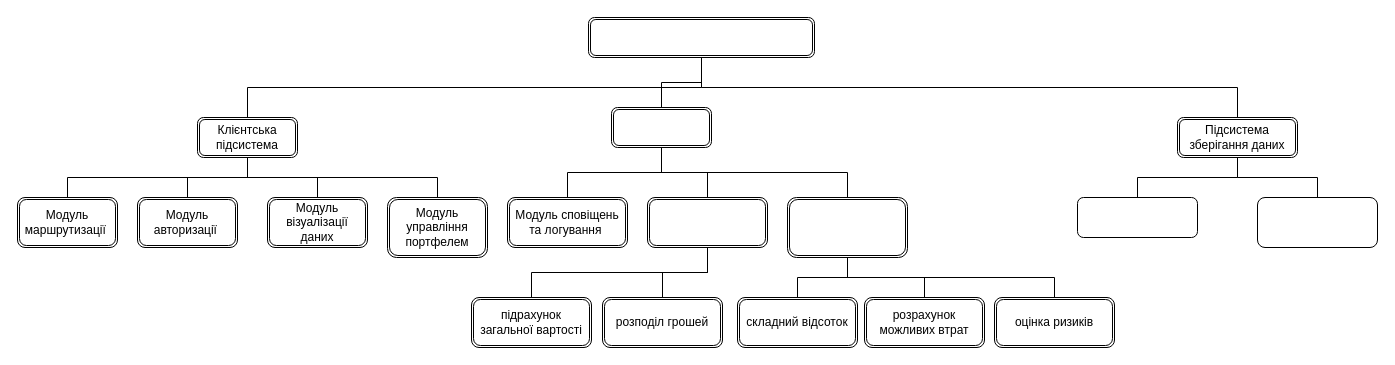
Some shapes in this 1395 by 365 pixel diagram are drawn without their labels. The box of each missing label's shape, as (x1, y1, x2, y2) in pixels:
Модуль автоматизованого аналізу .: (646, 196, 768, 248)
Модуль математичних розрахунків.: (786, 196, 908, 258)
Серверна підсистема: (610, 106, 712, 148)
Система для аналітики інвестиційних рішень: (588, 16, 814, 58)
Сховище даних користувачів: (1076, 196, 1198, 238)
Сховище інвестиційних портфелів: (1256, 196, 1378, 248)
